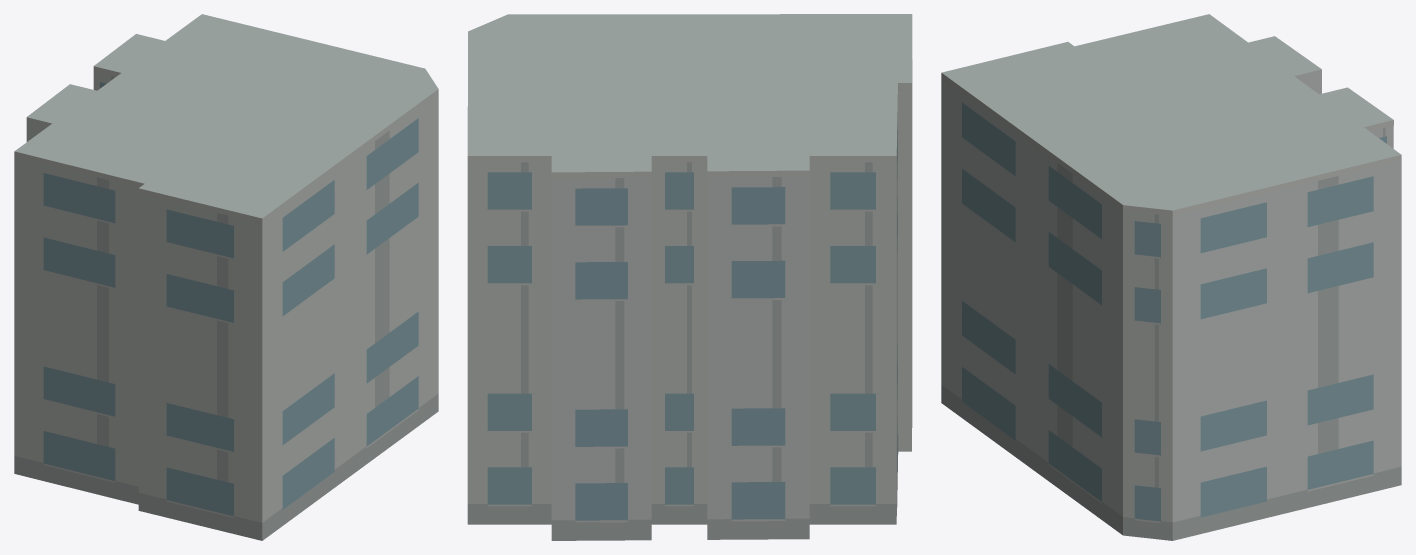
Rendered from survey-upis-32528394.glb.
3 views of the same model, side by side, from view 1: azimuth 30°, elevation 25°; view 2: azimuth 150°, elevation 25°; view 3: azimuth 270°, elevation 25° (orthographic). The views are drawn at different scales.
Visible parts, largest first — view 1: survey-upis-32528394.tmp; view 2: survey-upis-32528394.tmp; view 3: survey-upis-32528394.tmp.
Part boxes in pixels (bbox=[...]): survey-upis-32528394.tmp: bbox=[14, 14, 438, 540]; survey-upis-32528394.tmp: bbox=[467, 14, 912, 540]; survey-upis-32528394.tmp: bbox=[941, 14, 1401, 540].
Bounding box in the file's own units: 18.38 × 14.4 × 18.19.
